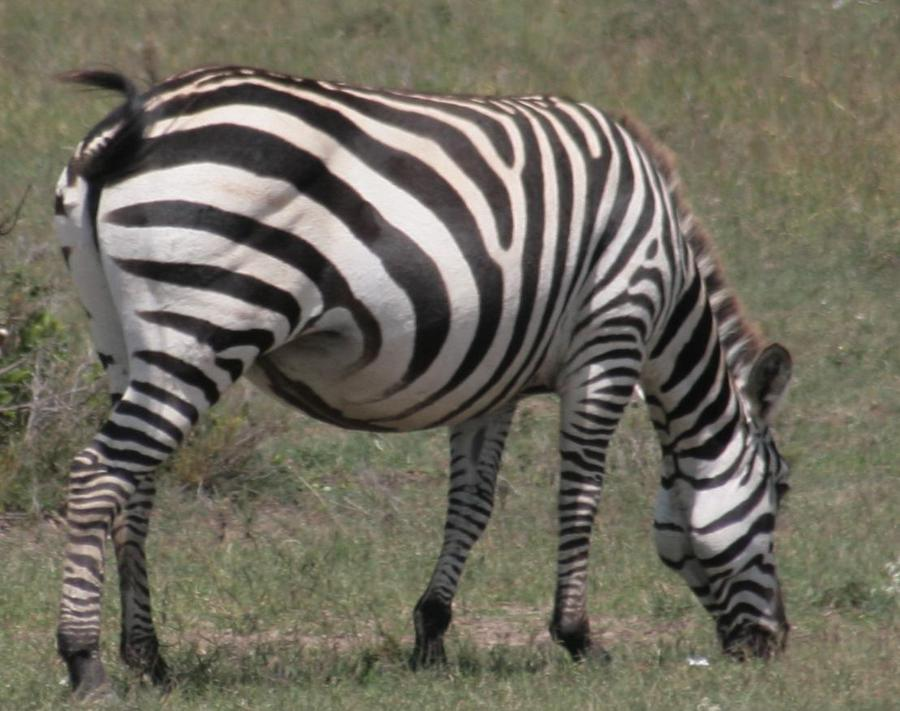zebra_plains: (71, 46, 731, 453)
